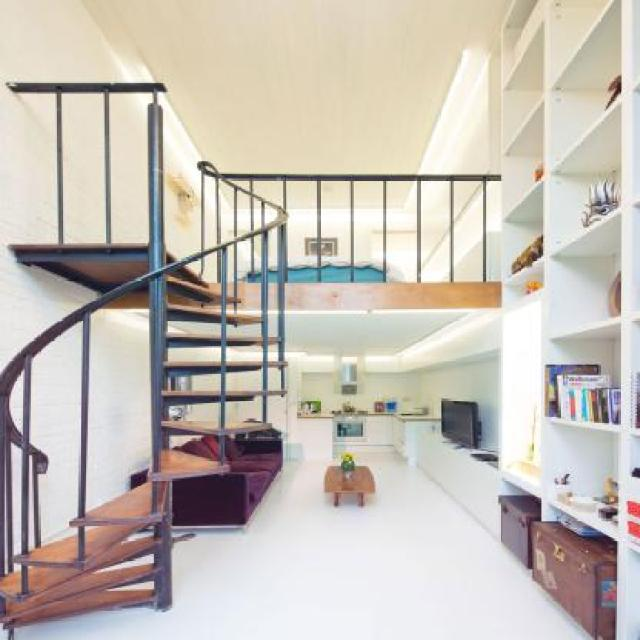stair: (0, 178, 277, 638)
